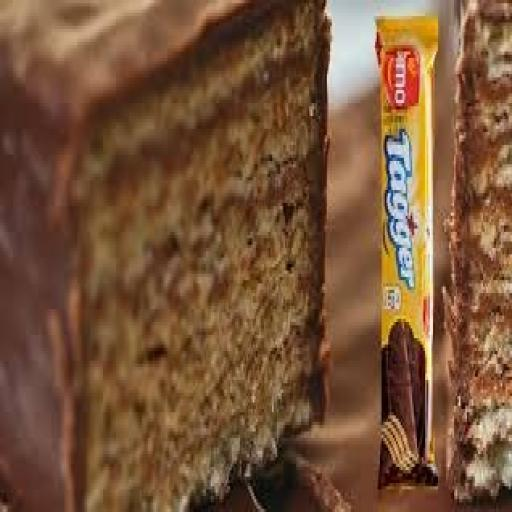tagger: (346, 0, 500, 512)
